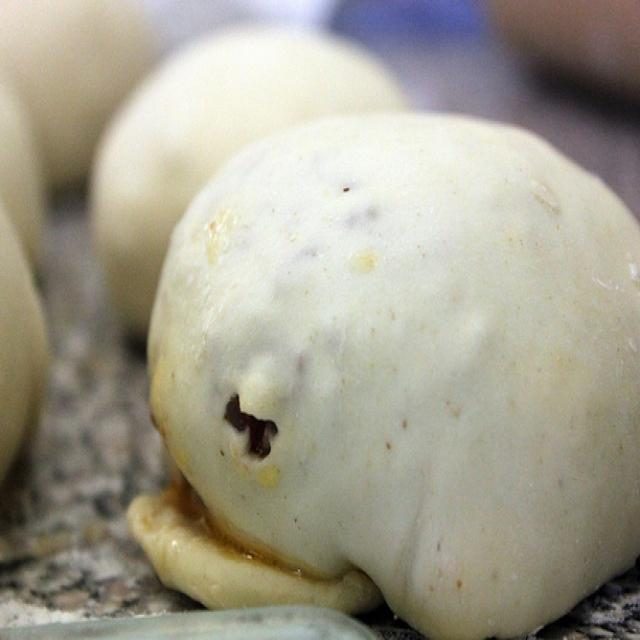带馅早点: (11, 17, 632, 623)
